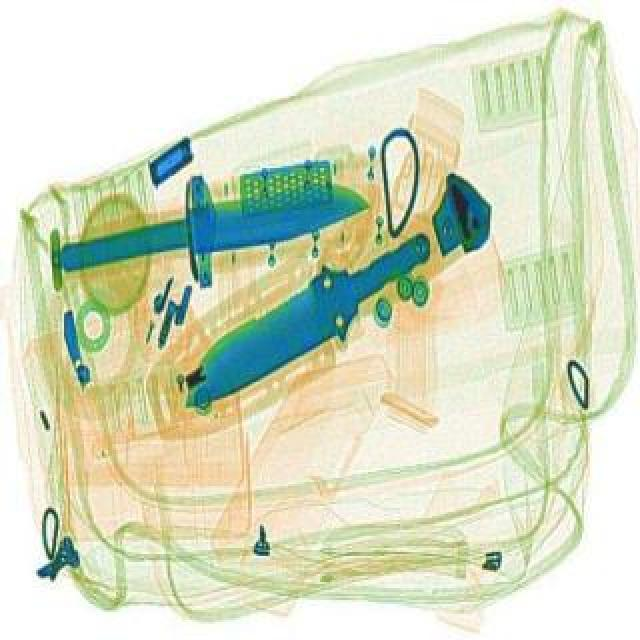knife: (152, 202, 460, 438), (36, 148, 380, 314)
